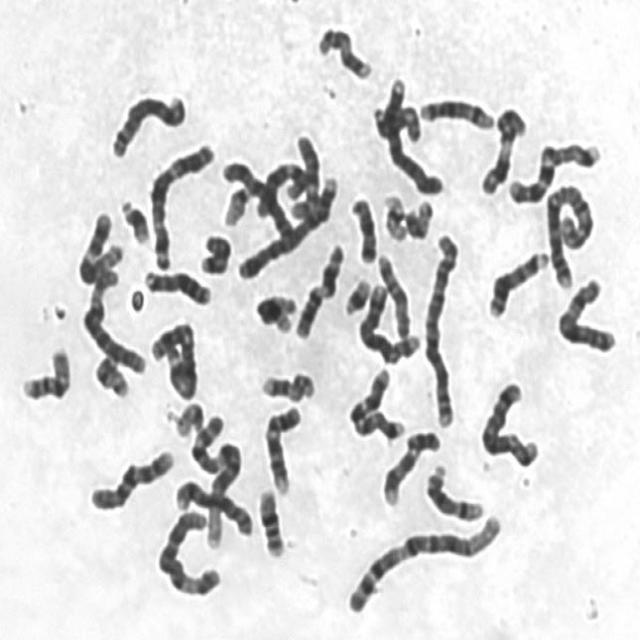A1: (339, 506, 506, 617), (186, 405, 246, 547)
A2: (419, 226, 463, 431), (541, 178, 597, 292)
A3: (144, 134, 217, 272), (145, 315, 199, 402)
B4: (232, 168, 342, 283), (377, 76, 446, 198)
B5: (475, 374, 542, 470), (352, 276, 423, 366)
C10: (84, 442, 177, 514), (288, 134, 322, 224)
C11: (290, 236, 347, 343), (475, 100, 529, 198)
C12: (72, 206, 123, 287), (252, 158, 312, 218)
C6: (77, 264, 149, 376), (153, 504, 223, 598)
C7: (502, 133, 604, 207), (343, 363, 408, 442)
C8: (105, 85, 189, 160), (170, 474, 254, 538)
C9: (378, 425, 444, 508), (259, 398, 305, 496)
D13: (483, 244, 552, 321), (139, 263, 213, 308)
D14: (421, 458, 487, 524), (414, 92, 497, 134)
D15: (372, 248, 413, 342), (371, 102, 422, 144)
E16: (16, 339, 73, 404), (253, 483, 287, 560)
E17: (313, 22, 374, 82), (256, 364, 318, 404)
E18: (345, 190, 378, 266), (196, 227, 233, 277)
F19: (378, 186, 409, 244), (271, 295, 298, 335)
F20: (89, 349, 132, 400), (404, 199, 434, 240)
G21: (115, 192, 152, 246), (339, 272, 373, 317)
G22: (217, 179, 253, 229), (170, 396, 206, 439)
X: (217, 154, 296, 244), (552, 272, 620, 356)
